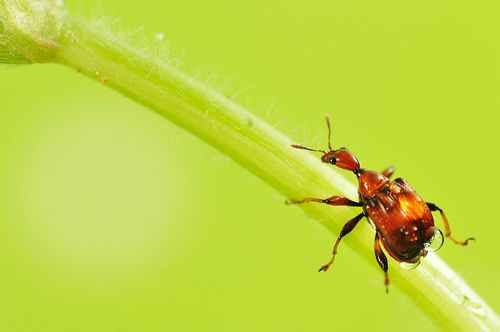Curculionidae: (282, 115, 475, 294)
